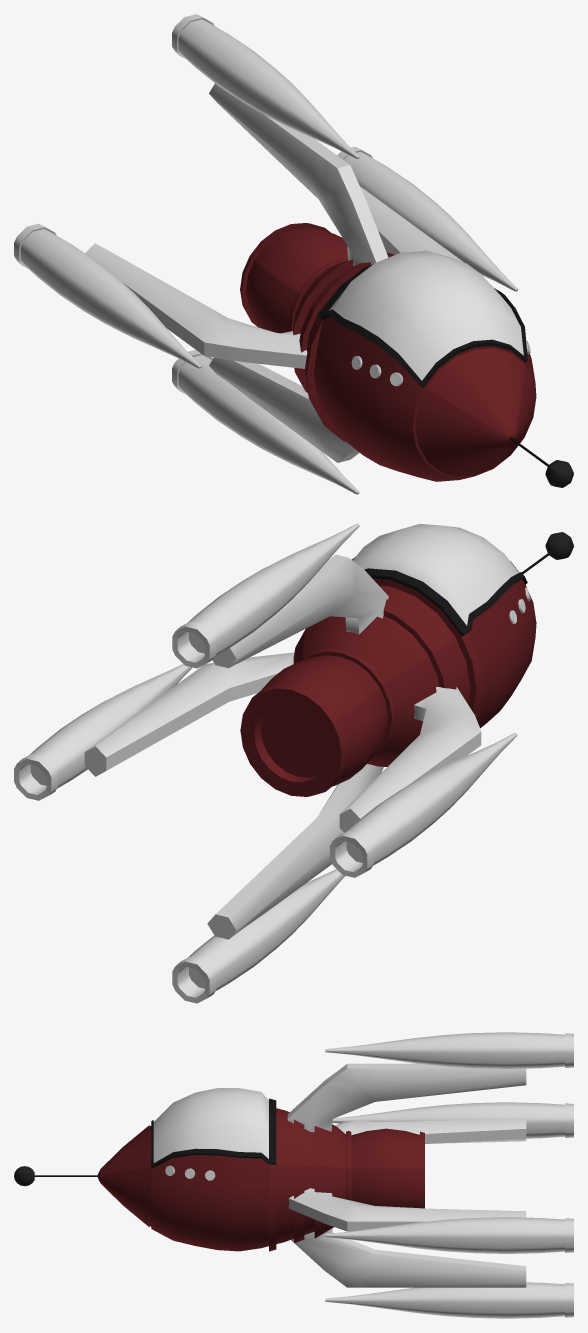
The model's file is Space_Ship_Piece.fbx.
3 renders of one model, top to bottom at view 1: azimuth 30°, elevation 25°; view 2: azimuth 150°, elevation 25°; view 3: azimuth 270°, elevation 25°, orthographic. The views are drawn at different scales.
Parts seen in each view (by area): view 1: polySurface107, polySurface155, polySurface154, polySurface157, polySurface158, polySurface116; view 2: polySurface107, polySurface155, polySurface116, polySurface158, polySurface154, polySurface157; view 3: polySurface107, polySurface155, polySurface154, polySurface158, polySurface116, polySurface157.
Boxes of the visible parts, <box> form: polySurface107: <box>240,223,573,487</box>; polySurface155: <box>14,14,517,494</box>; polySurface154: <box>209,83,388,266</box>; polySurface157: <box>85,243,307,368</box>; polySurface158: <box>209,357,359,462</box>; polySurface116: <box>360,186,463,262</box>; polySurface107: <box>240,524,573,796</box>; polySurface155: <box>14,523,517,1003</box>; polySurface116: <box>84,652,294,776</box>; polySurface158: <box>207,764,383,939</box>; polySurface154: <box>212,554,388,668</box>; polySurface157: <box>339,687,481,832</box>; polySurface107: <box>14,1088,424,1251</box>; polySurface155: <box>325,1032,573,1318</box>; polySurface154: <box>287,1063,526,1132</box>; polySurface158: <box>291,1228,526,1287</box>; polySurface116: <box>288,1188,526,1231</box>; polySurface157: <box>335,1118,526,1143</box>.
Bounding box in the file's own units: 27.83 × 28.15 × 50.72.
